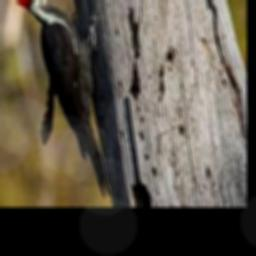Woodpecker: (16, 0, 111, 197)
